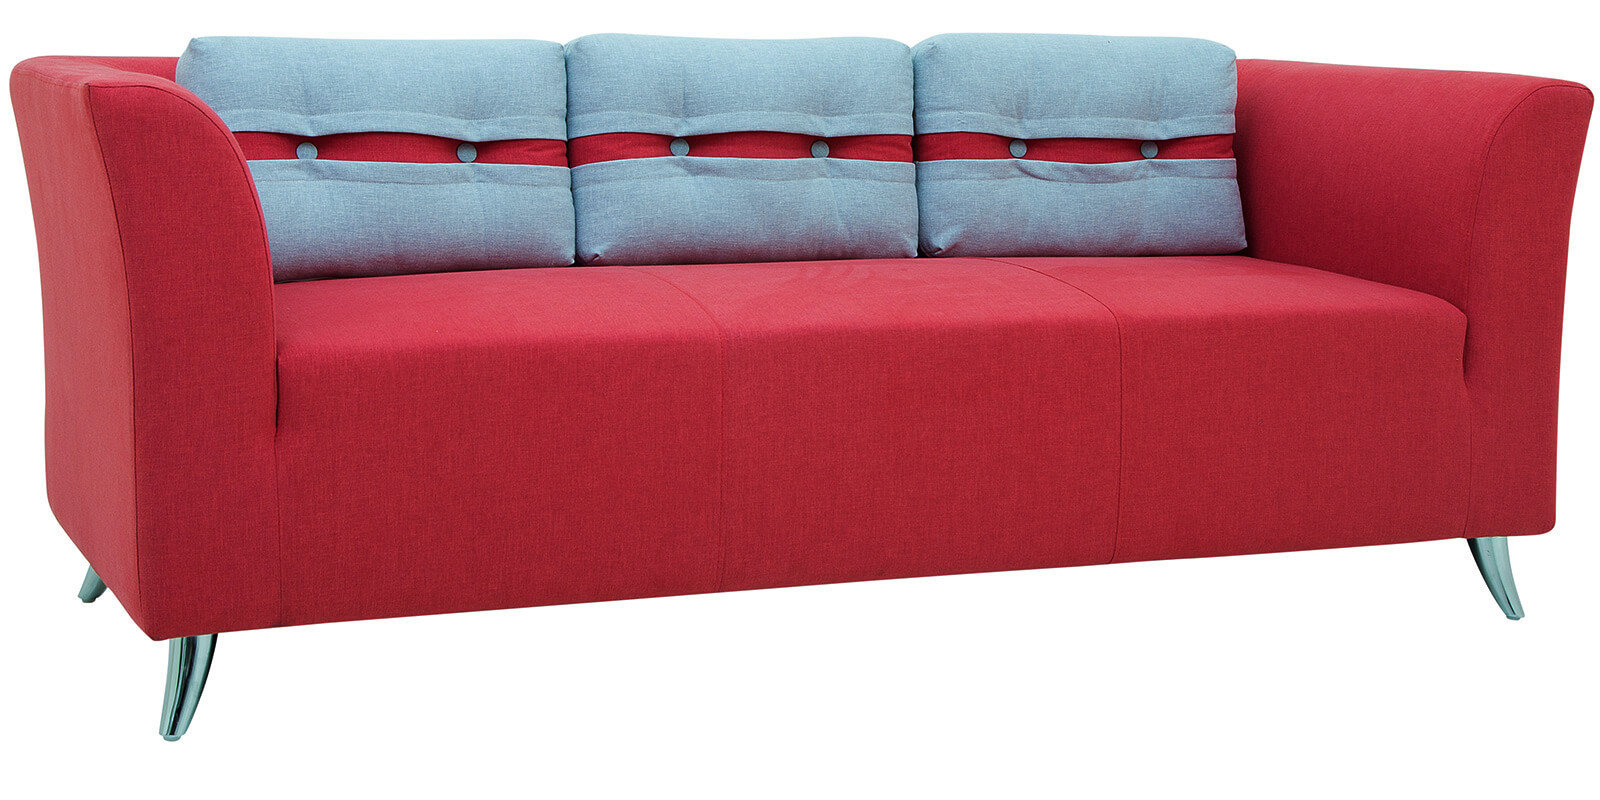Iowa Three Seater Sofa in Crimson Red Colour by Furnitech: (14, 22, 1585, 750)
